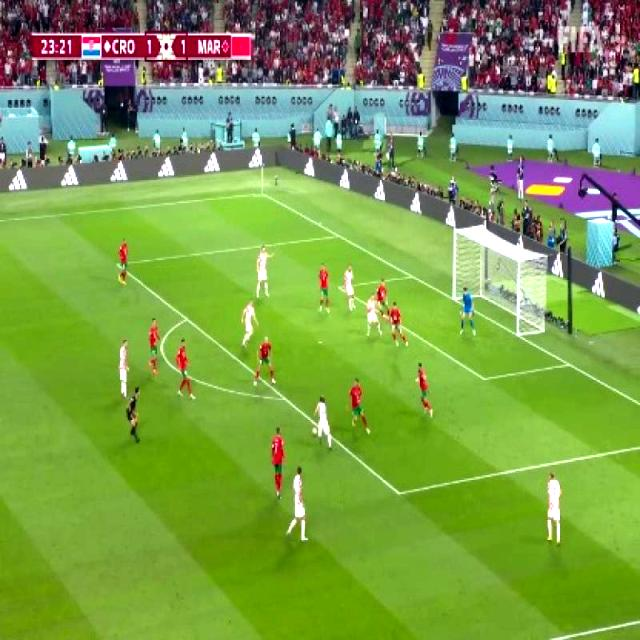bigarea_bottom_inner: (389, 478, 406, 506)
bigarea_top_outter: (332, 230, 342, 242)
bottom_arc_area_intersection: (280, 391, 290, 406)
corner: (109, 255, 127, 274), (257, 191, 266, 197)
smallarea_bottom_inner: (477, 366, 491, 389)
smallarea_bottom_outter: (563, 357, 574, 371)
smallarea_top_outter: (406, 268, 416, 282)
top_arc_area_intersection: (180, 310, 190, 325)
